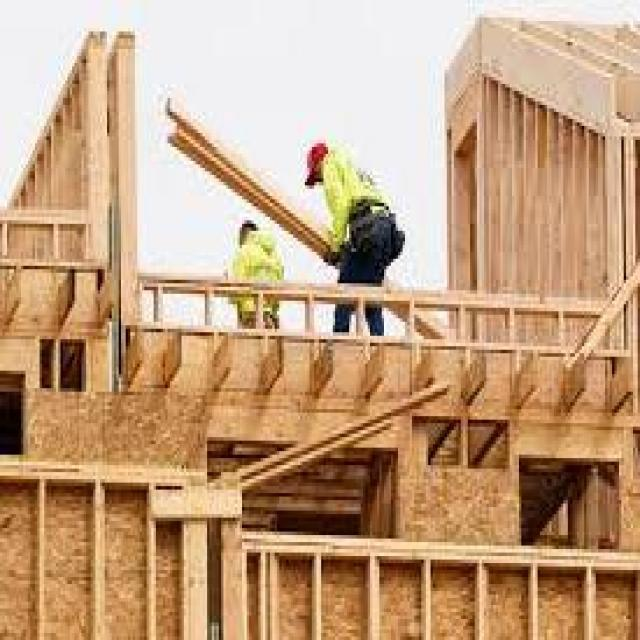reflective_jacket: (318, 140, 400, 259), (229, 233, 290, 315)
safety_helmet: (293, 129, 335, 188)
